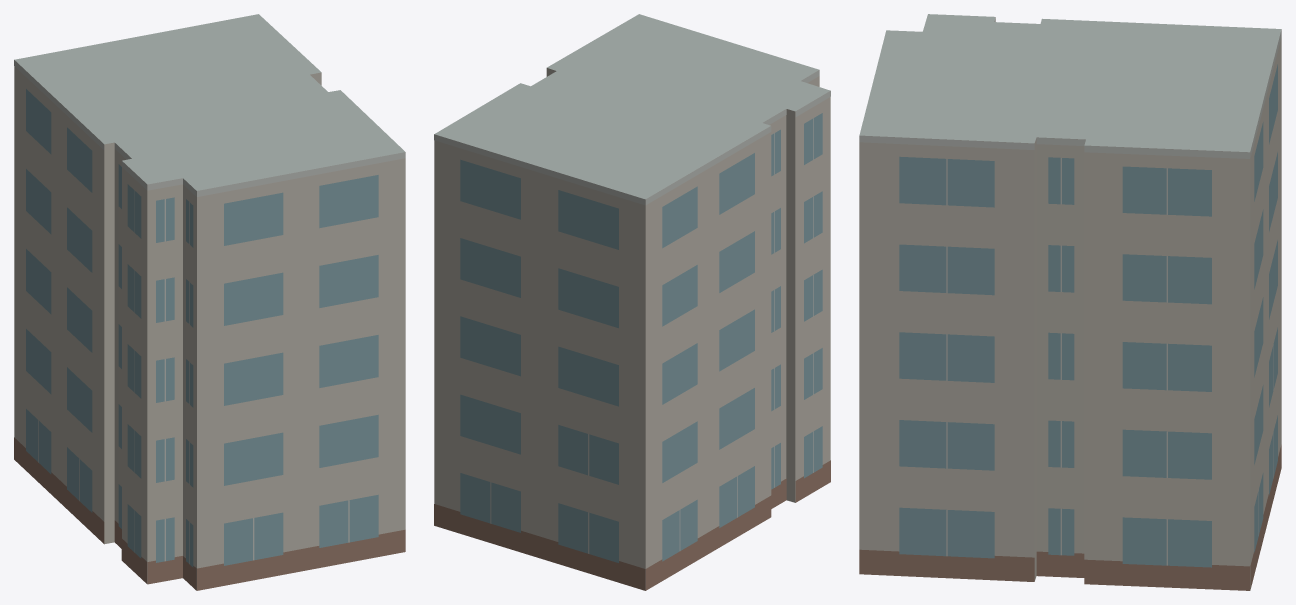
The model's file is survey-upis-32879860.glb.
3 views of the same model, side by side, from view 1: azimuth 30°, elevation 25°; view 2: azimuth 150°, elevation 25°; view 3: azimuth 270°, elevation 25° (orthographic). The views are drawn at different scales.
Visible parts, largest first — view 1: survey-upis-32879860.tmp; view 2: survey-upis-32879860.tmp; view 3: survey-upis-32879860.tmp.
Part boxes in pixels (box(x1,y1,x2,y2)): survey-upis-32879860.tmp: box(14, 14, 405, 590); survey-upis-32879860.tmp: box(434, 14, 830, 590); survey-upis-32879860.tmp: box(859, 14, 1281, 590).
Size of the model in its own units: 10.69 by 15.8 by 13.79.
